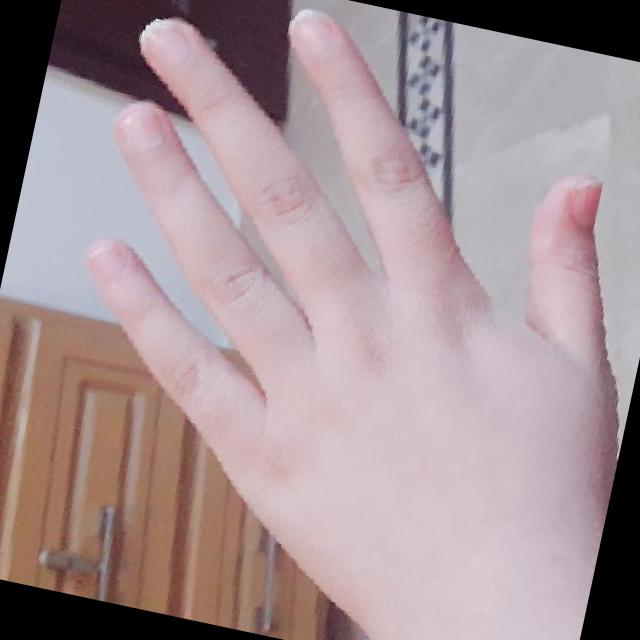Nail: (115, 101, 167, 154), (139, 15, 187, 66), (569, 179, 603, 231), (288, 7, 329, 50), (90, 241, 124, 277)
